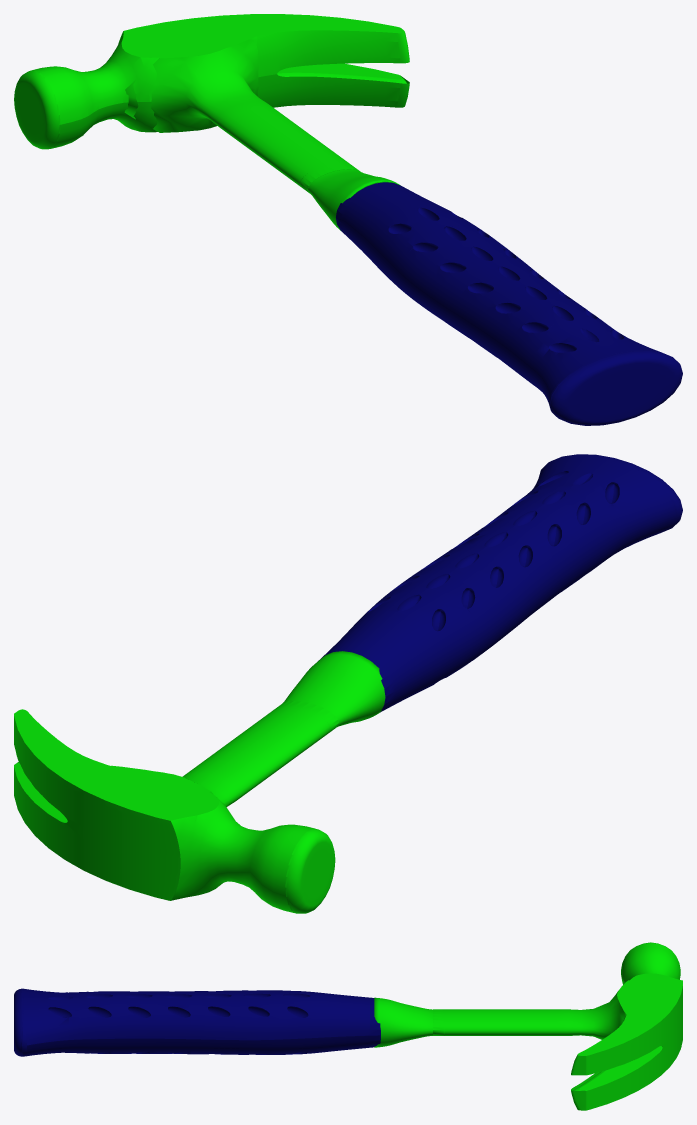
Rendered from hammer1_0.dae.
The picture shows the model from 3 angles, top to bottom: view 1: azimuth 30°, elevation 25°; view 2: azimuth 150°, elevation 25°; view 3: azimuth 270°, elevation 25°; orthographic projection. The views are drawn at different scales.
Visible parts, largest first — view 1: Cylinder11_003, ChamferCyl81_003; view 2: Cylinder11_003, ChamferCyl81_003; view 3: ChamferCyl81_003, Cylinder11_003.
Part boxes in pixels (x1,y1,x2,y2): Cylinder11_003: (14,14,409,230); ChamferCyl81_003: (336,182,682,425); Cylinder11_003: (14,651,385,913); ChamferCyl81_003: (318,454,682,712); ChamferCyl81_003: (14,988,380,1056); Cylinder11_003: (374,942,682,1110).
Bounding box in the file's own units: 0.1532 × 0.3716 × 0.0337.
